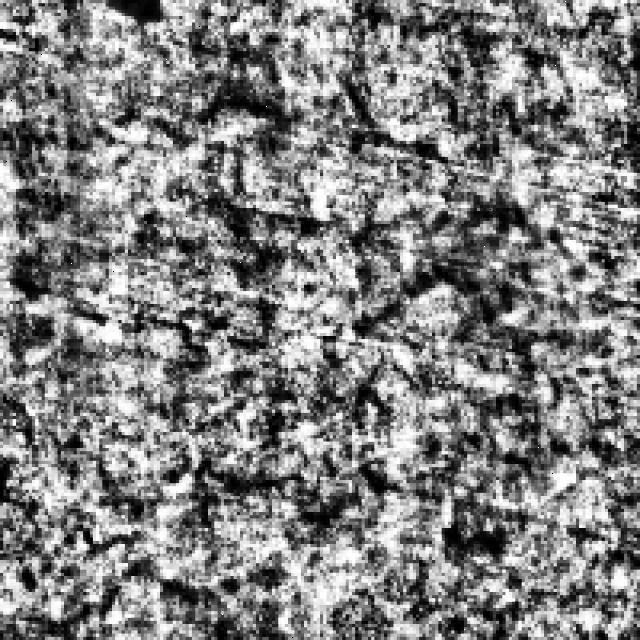Pitted_Surface: (352, 192, 605, 560)
